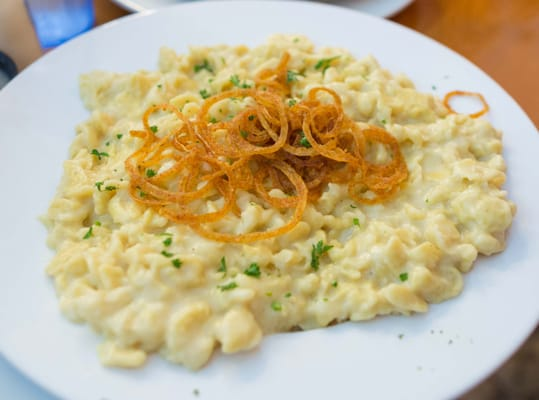pizza: (23, 0, 97, 51)
